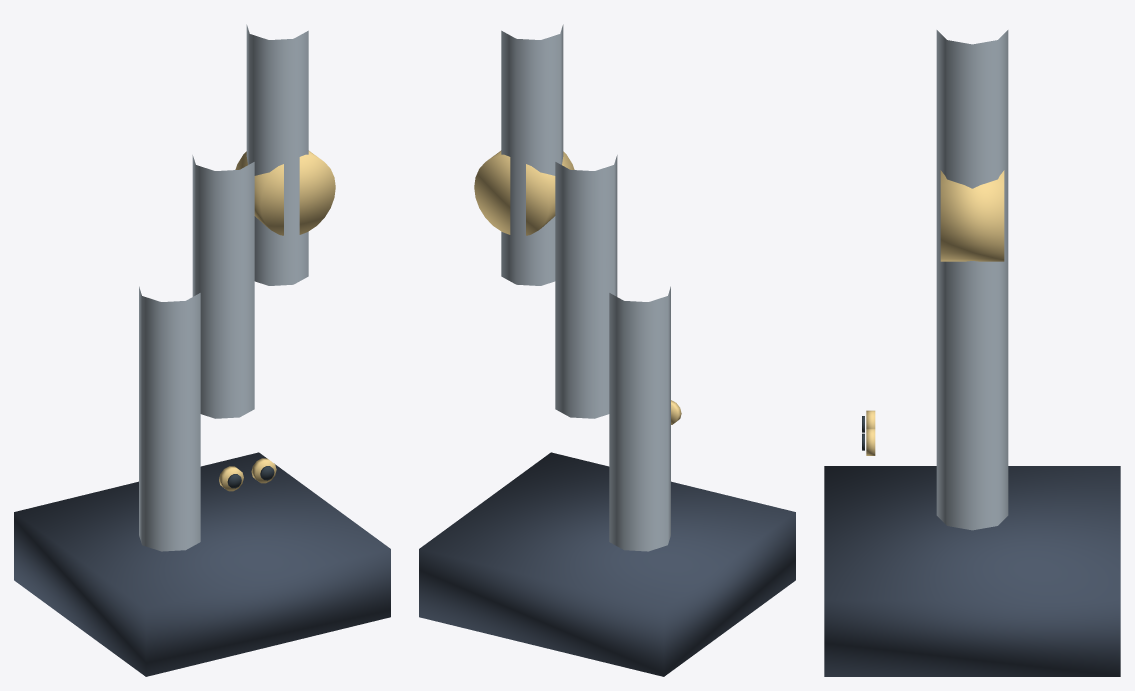
Rendered from 76_L92_SampleReturnTransferArm.glb.
3 views of the same model, side by side, from view 1: azimuth 30°, elevation 25°; view 2: azimuth 150°, elevation 25°; view 3: azimuth 270°, elevation 25° (orthographic). The views are drawn at different scales.
Visible parts, largest first — view 1: L92_SampleReturnTransferArm, L92_SampleReturnTransferArm_Part_0001, L92_SampleReturnTransferArm_Part_0002; view 2: L92_SampleReturnTransferArm, L92_SampleReturnTransferArm_Part_0001, L92_SampleReturnTransferArm_Part_0002; view 3: L92_SampleReturnTransferArm, L92_SampleReturnTransferArm_Part_0001, L92_SampleReturnTransferArm_Part_0002.
Part boxes in pixels (box(x1,y1,x2,y2)): L92_SampleReturnTransferArm: box(14, 452, 390, 676); L92_SampleReturnTransferArm_Part_0001: box(139, 24, 308, 551); L92_SampleReturnTransferArm_Part_0002: box(235, 150, 335, 235); L92_SampleReturnTransferArm: box(419, 452, 795, 676); L92_SampleReturnTransferArm_Part_0001: box(501, 24, 670, 551); L92_SampleReturnTransferArm_Part_0002: box(474, 150, 574, 235); L92_SampleReturnTransferArm: box(824, 466, 1120, 676); L92_SampleReturnTransferArm_Part_0001: box(936, 30, 1008, 530); L92_SampleReturnTransferArm_Part_0002: box(940, 170, 1004, 261).
Size of the model in its own units: 1.5 by 3.24 by 1.4.
